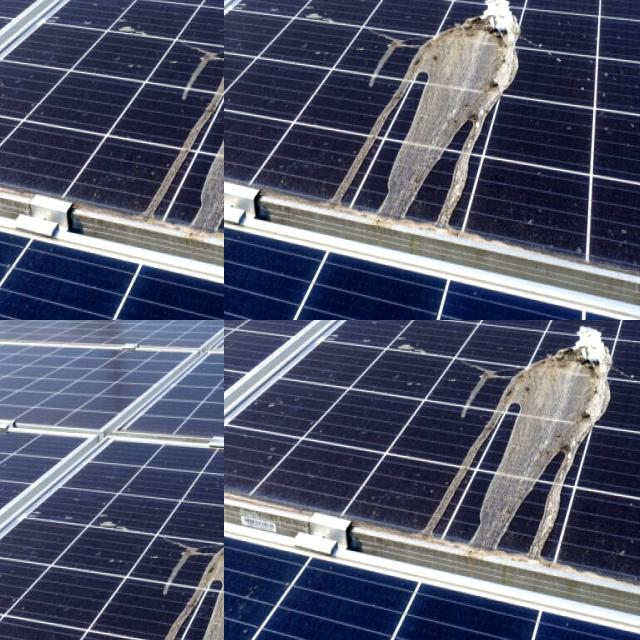bird: (474, 320, 613, 546), (429, 0, 481, 21), (362, 0, 412, 20), (305, 0, 353, 17), (224, 0, 242, 25), (224, 0, 244, 15), (224, 0, 232, 21)
panel: (132, 286, 213, 320), (55, 288, 120, 320)
